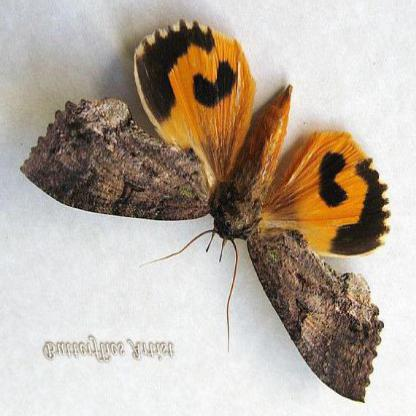fruit sucking moth: (19, 23, 390, 404)
